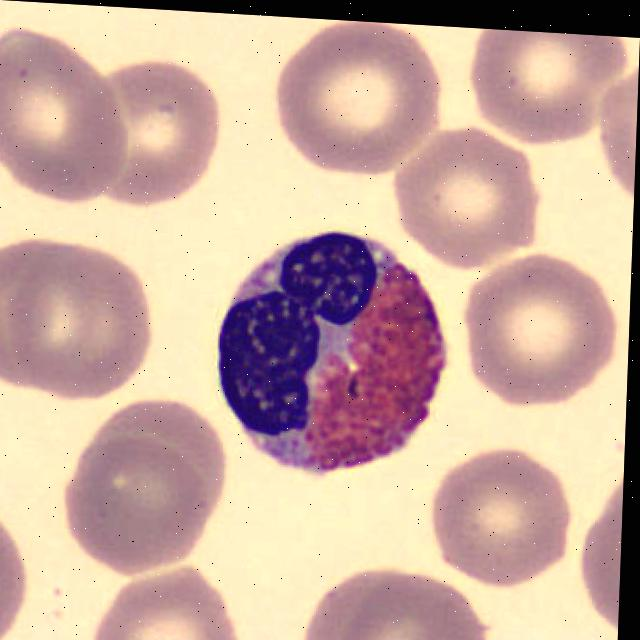eosinophil: (213, 219, 449, 474)
rbc: (69, 43, 232, 216), (274, 19, 444, 178), (456, 247, 615, 405), (384, 123, 547, 277), (424, 440, 578, 590), (0, 34, 126, 215), (7, 244, 149, 400), (74, 392, 228, 532), (463, 28, 633, 146), (65, 436, 205, 577), (0, 229, 106, 404), (81, 558, 244, 640), (289, 562, 444, 640), (341, 572, 493, 640), (577, 464, 624, 622), (593, 63, 639, 195), (0, 486, 38, 640)
